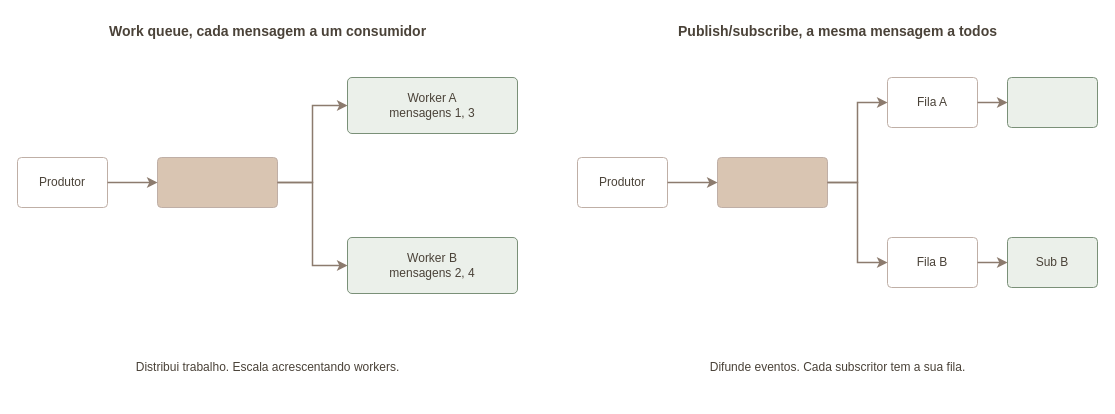
Image size: 1115x414. Some labels were removed from this diagram. The shapes that lost their labels are listed below. From the top down, each one's centre as x and y in pixels, then its label:
point (1052, 102): Sub A
point (217, 182): Fila única
point (772, 182): Exchange fanout
